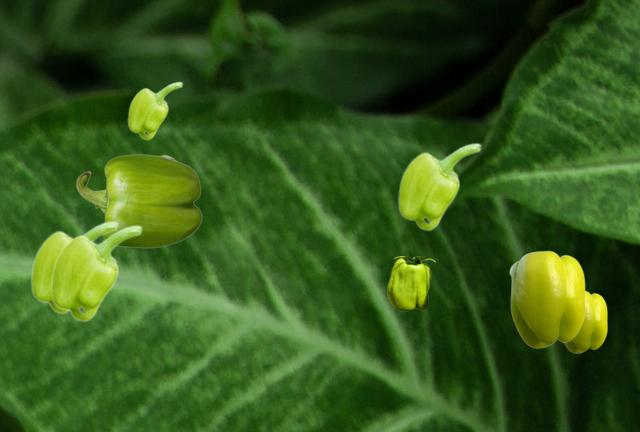bell_pepper: (76, 154, 201, 247), (50, 224, 142, 321), (30, 220, 118, 313), (397, 142, 481, 230), (509, 250, 584, 347), (127, 81, 182, 139), (564, 290, 606, 352), (387, 256, 434, 310)
